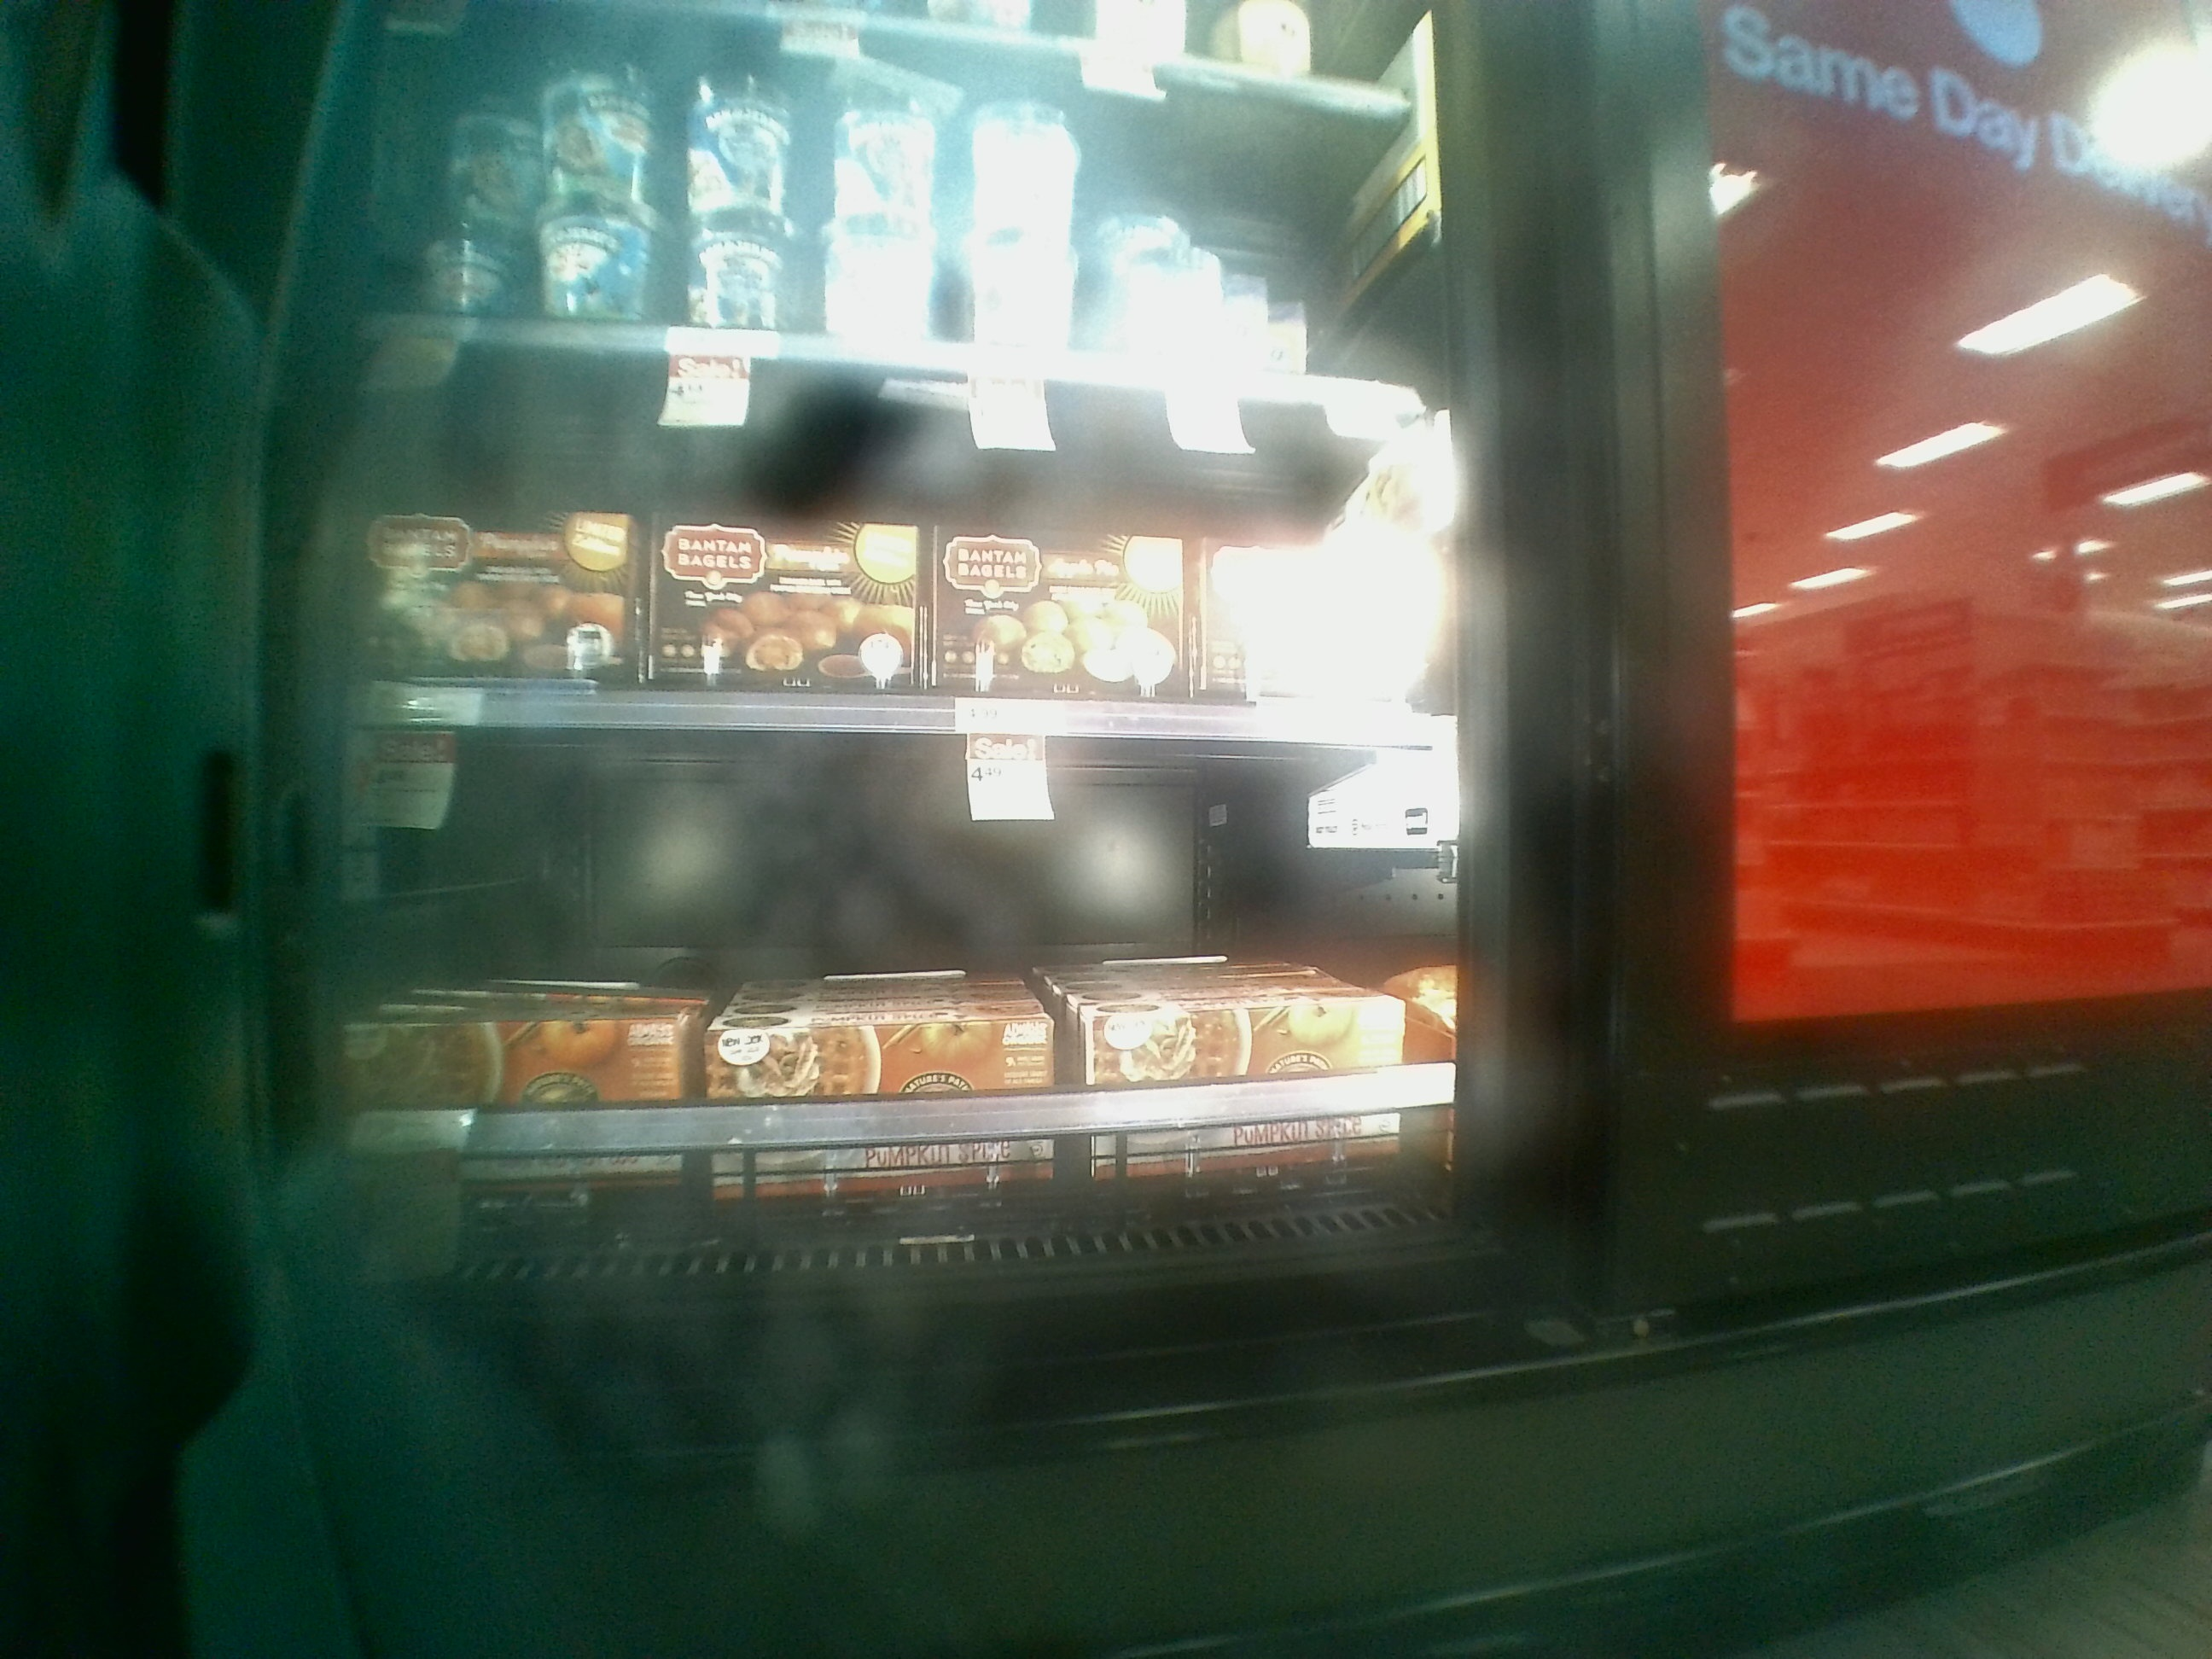shelf: (303, 723, 1498, 1303), (308, 326, 1456, 748)
